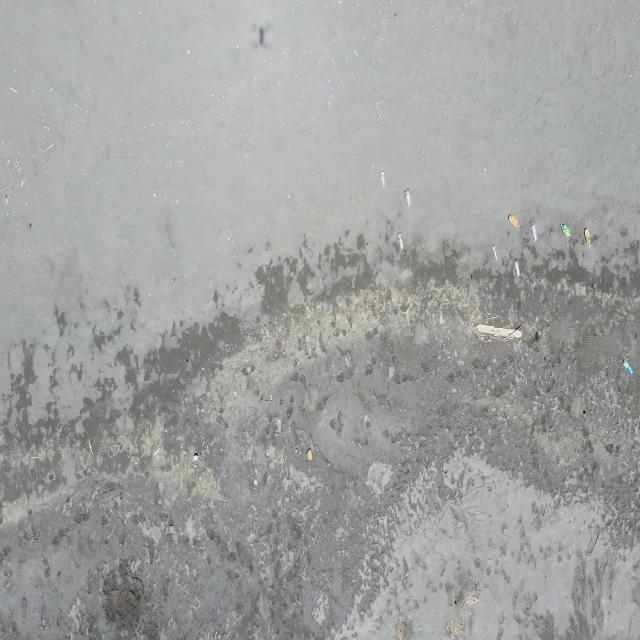Garbage: (476, 324, 520, 337), (444, 619, 463, 635), (507, 213, 519, 227), (560, 223, 571, 236), (404, 187, 411, 207), (396, 232, 403, 251), (241, 364, 253, 375), (373, 100, 380, 118), (543, 344, 551, 359), (529, 223, 536, 240), (623, 359, 632, 372), (512, 260, 519, 276), (584, 227, 590, 244), (387, 364, 393, 379), (364, 413, 369, 427), (380, 171, 384, 187), (492, 244, 496, 260), (307, 448, 312, 460), (439, 310, 443, 324), (192, 452, 198, 460)
